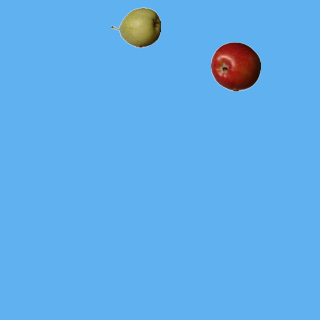Apple Braeburn: (210, 41, 260, 91)
Pear: (110, 2, 160, 52)
